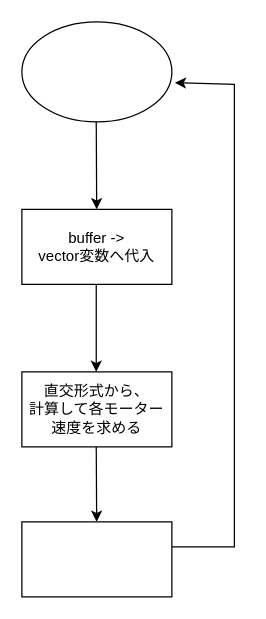
Image size: 266x619. Some labels were removed from this diagram. The shapes that lost their labels are listed below. From the top down, each one's centre as x and y in pixels, then its label:
At (96,71): "UART信号の受信".
At (96,559): "足回りを動かす (モーター)".
